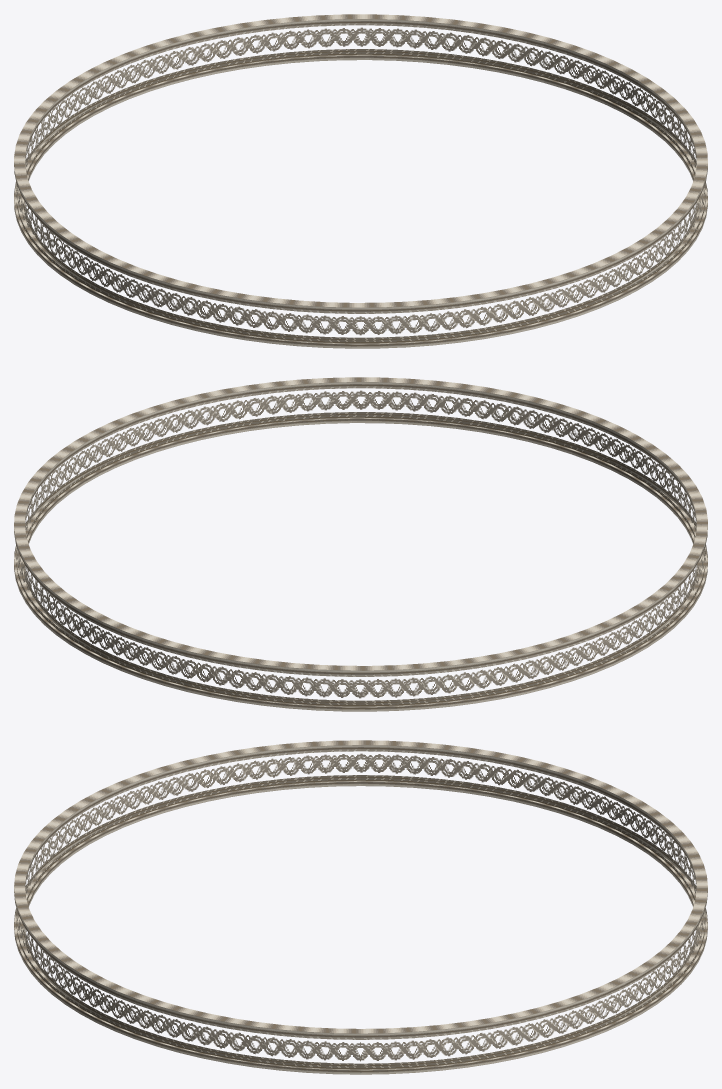
File: ring_1.obj
3 views of the same model, one above another, from view 1: azimuth 30°, elevation 25°; view 2: azimuth 150°, elevation 25°; view 3: azimuth 270°, elevation 25° (orthographic).
Size of the model in its own units: 17.46 by 1.14 by 17.46.
